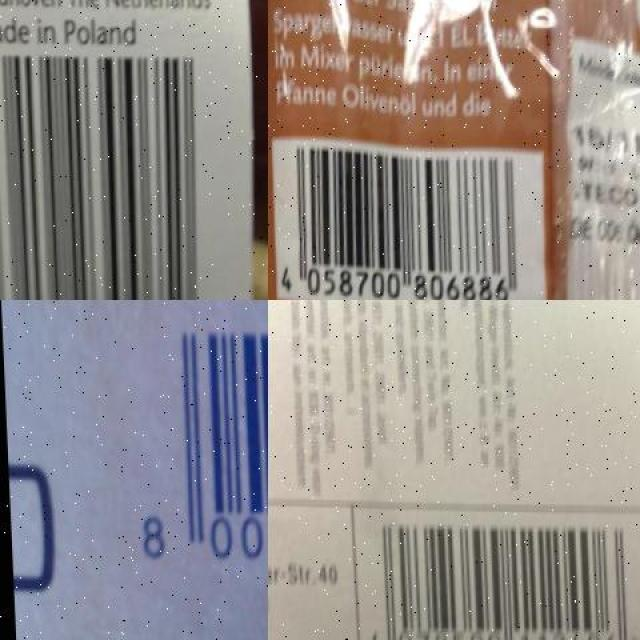Barcode: (0, 43, 236, 300), (113, 301, 268, 604), (268, 132, 547, 300), (350, 506, 640, 640)
